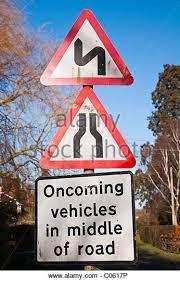narrow_road: (38, 85, 138, 168)
